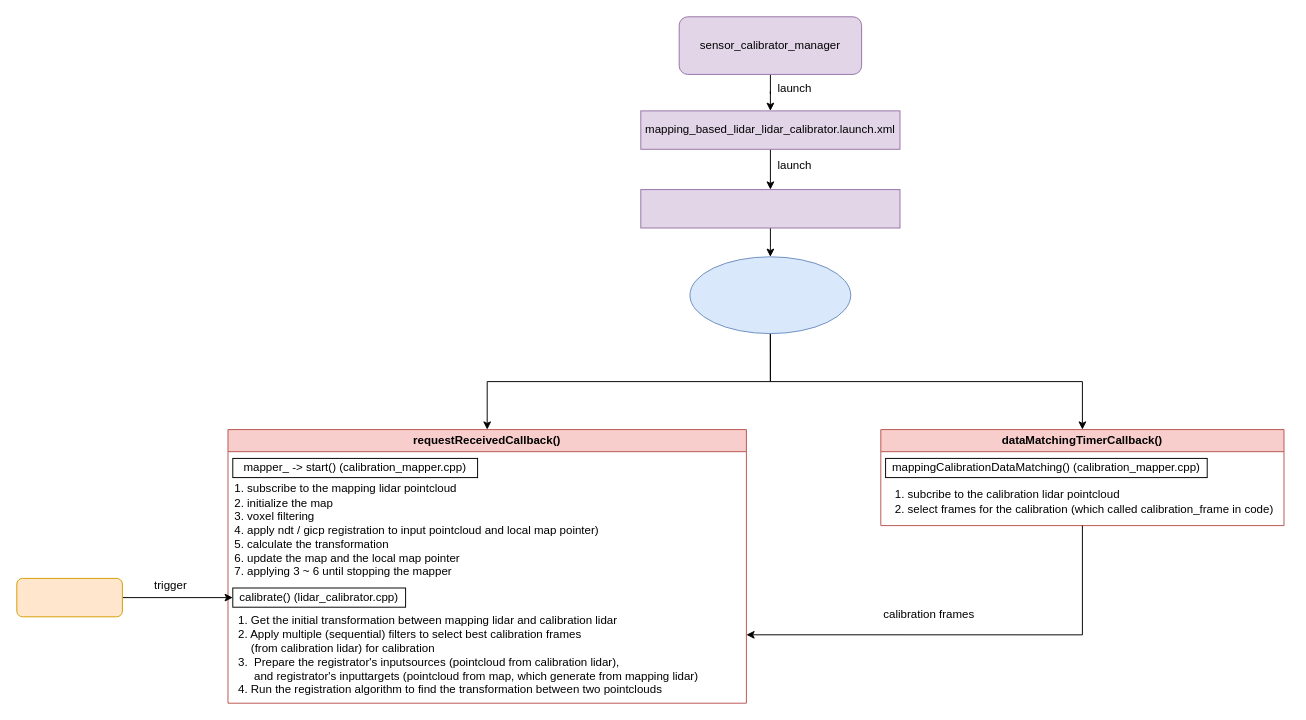
The diagram is 1306 pixels wide and 720 high, and some of its shapes have lost their labels. The shapes that lost their labels are listed below. From the top down, each one's centre as x and y in pixels, then its label:
At pixel 770 208: "mapping_based_calibrator/calibrator.launch.xml".
At pixel 770 295: "package mapping_based_calibrator".
At pixel 69 597: "/stop_mapping".
